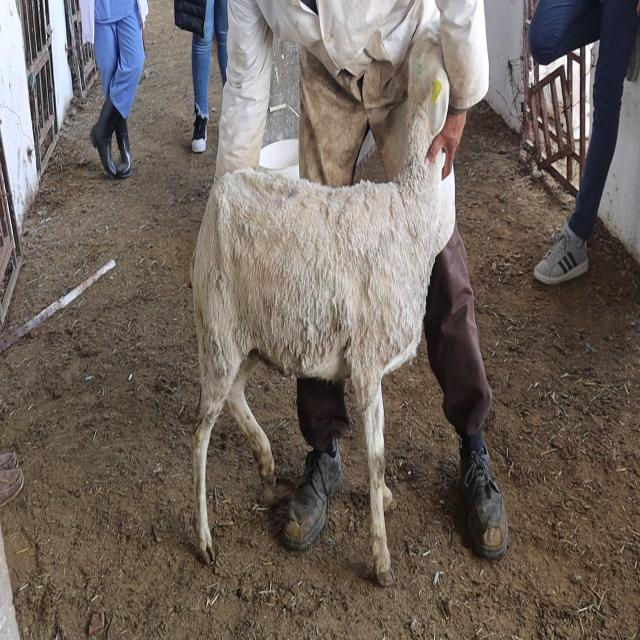Score_1: (192, 31, 450, 584)
